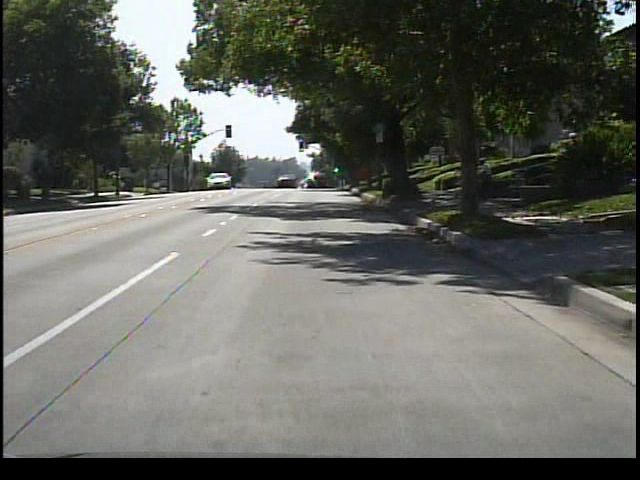person: (472, 154, 498, 199)
